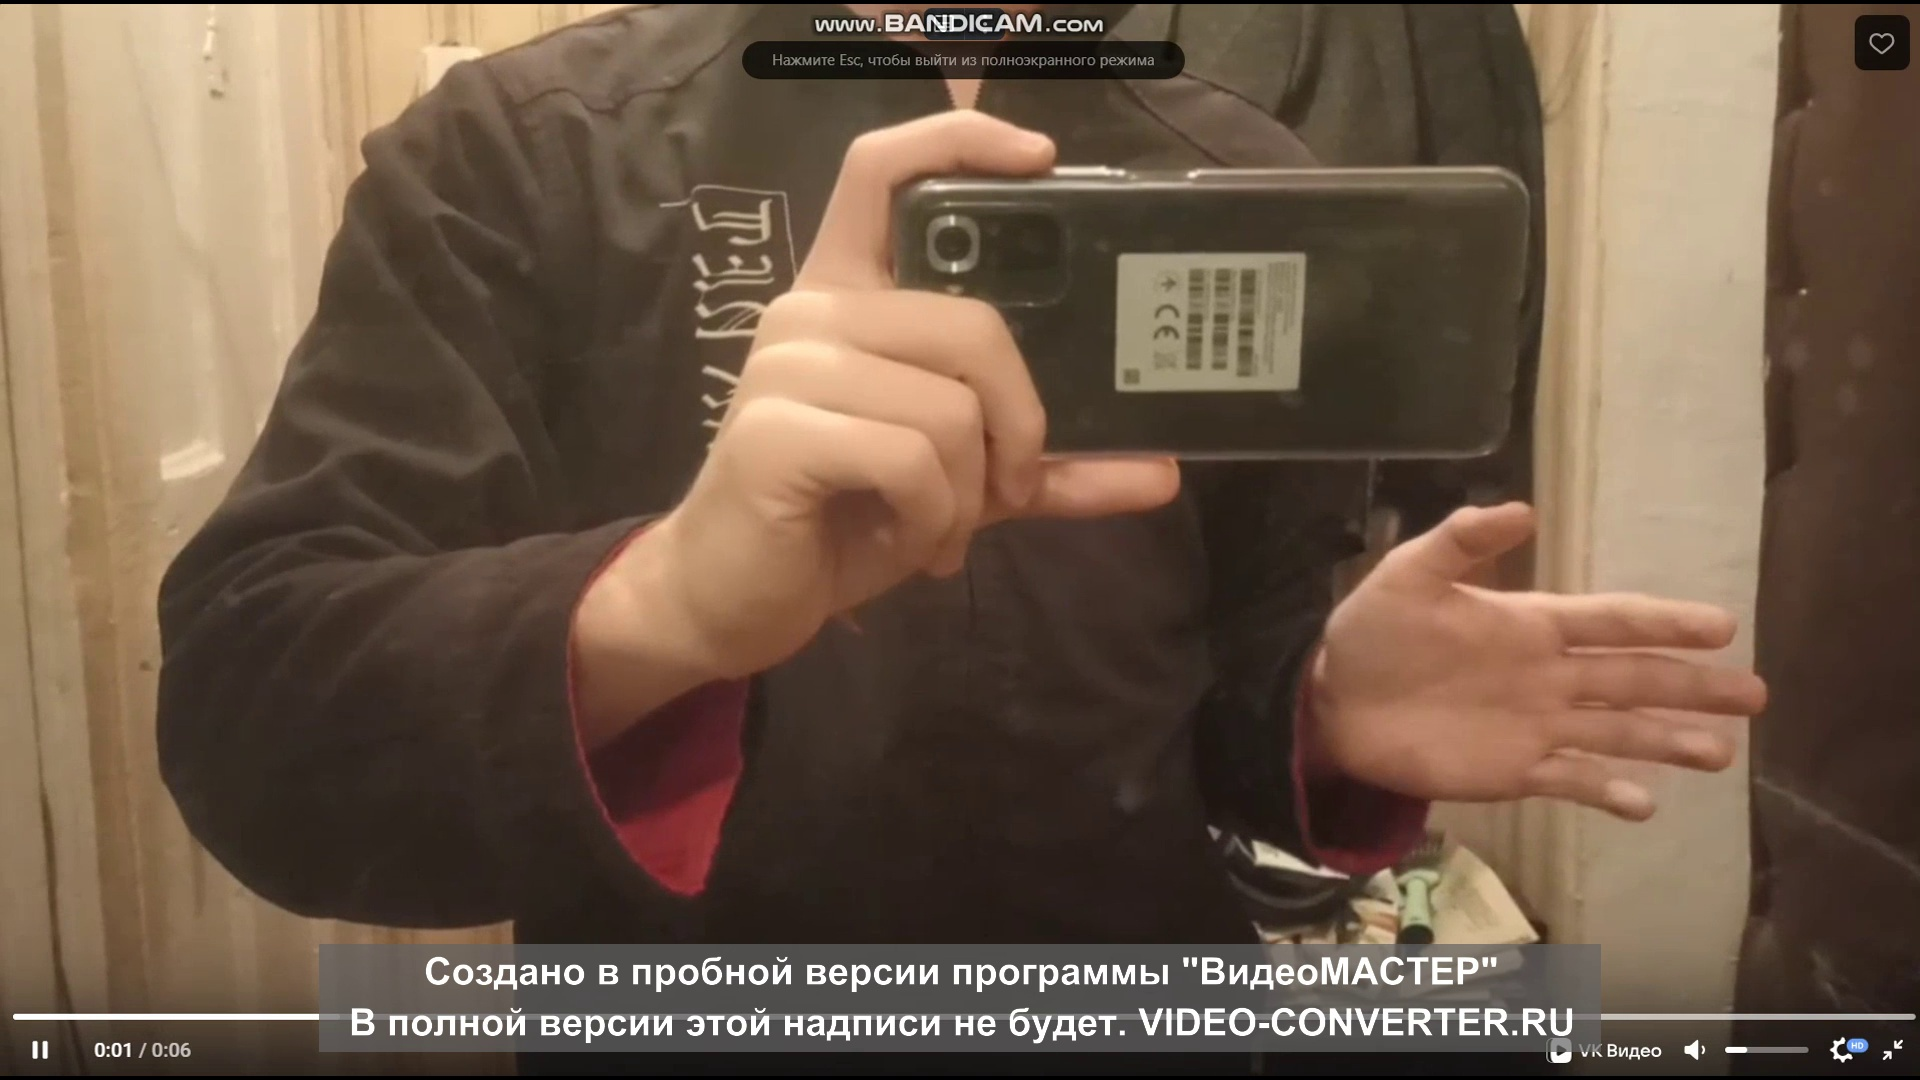Ладонь: (1325, 498, 1770, 818)
